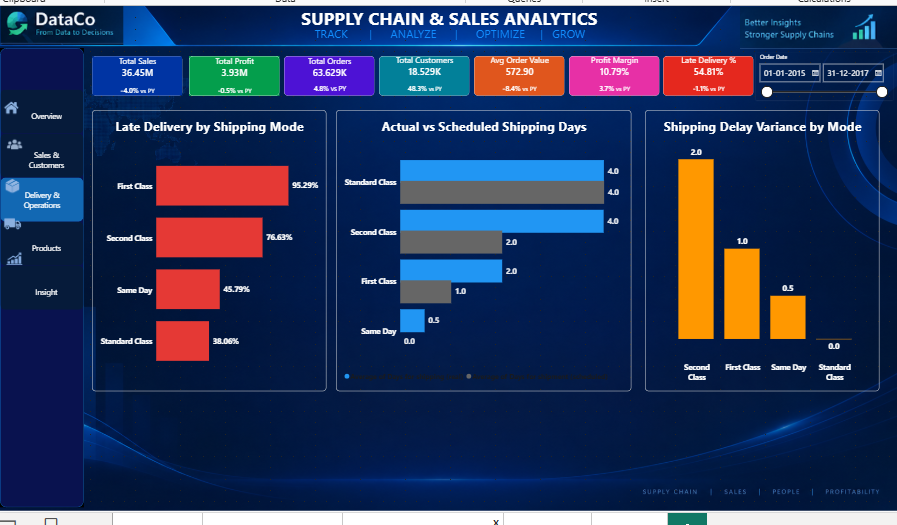

The dashboard page shown, as its layout file describes it:
{"tool":"powerbi","page":{"name":"Delivery & Operations","canvas":[1920,1080],"ordinal":2},"visuals":[{"type":"textbox","box":[488,0,940.8,83.2],"z":0},{"type":"group","id":"g1","title":"Group 10","box":[0,88.7,179.2,980],"z":0,"group":"g2"},{"type":"shape","box":[0,88.7,178.7,980],"z":500,"group":"g1"},{"type":"textbox","box":[535.5,42.7,849.1,40.5],"z":1000},{"type":"image","box":[6.4,275.2,50,40],"z":1000,"group":"g2"},{"type":"image","box":[0,0,264.5,83.2],"z":2000},{"type":"slicer","fields":{"Values":["DateTable.Date"]},"box":[1612.4,100,292,100],"z":2000},{"type":"image","box":[4.3,192,40,50],"z":2000,"group":"g2"},{"type":"image","box":[1578.7,0,341.3,93.9],"z":3000},{"type":"image","box":[6.4,358.4,40,50],"z":3000,"group":"g2"},{"type":"clusteredBarChart","title":"Late Delivery by Shipping Mode","fields":{"Category":["public dataco_raw.Shipping Mode"],"Y":["public dataco_raw.Late Delivery %"]},"box":[195.7,221.4,500,600],"z":4000},{"type":"image","box":[6.4,439.5,40,50],"z":4000,"group":"g2"},{"type":"clusteredBarChart","title":"Actual vs Scheduled Shipping Days","fields":{"Category":["public dataco_raw.Shipping Mode"],"Y":["Avg(public dataco_raw.Days for shipping (real))","Avg(public dataco_raw.Days for shipment (scheduled))"]},"box":[717.1,221.4,630,600],"z":5000},{"type":"image","box":[10.7,514.2,40,50],"z":5000,"group":"g2"},{"type":"clusteredColumnChart","title":"Shipping Delay Variance by Mode","fields":{"Category":["public dataco_raw.Shipping Mode"],"Y":["public dataco_raw.Shipping Delay Variance"]},"box":[1376,222,500,600],"z":6000},{"type":"group","id":"g2","title":"Group 11","box":[0,88.7,179.2,980],"z":8000},{"type":"pageNavigator","box":[0,176.9,179.2,475.7],"z":22000,"group":"g1"},{"type":"cardVisual","fields":{"Data":["Sum(public dataco_raw.Sales)"]},"box":[195.7,106.6,193,85],"z":31000},{"type":"cardVisual","fields":{"Data":["Sum(public dataco_raw.Order Profit Per Order)"]},"box":[402.4,106.6,193,85],"z":33000},{"type":"cardVisual","fields":{"Data":["Count(public dataco_raw.Order Id)"]},"box":[605.7,106.6,193,85],"z":35000},{"type":"cardVisual","fields":{"Data":["Count(public dataco_raw.Customer Id)"]},"box":[808.7,106.6,193,85],"z":37000},{"type":"cardVisual","fields":{"Data":["public dataco_raw.AOV"]},"box":[1010.7,106.6,193,85],"z":39000},{"type":"cardVisual","fields":{"Data":["public dataco_raw.Profit Margin"]},"box":[1214,106.6,193,85.7],"z":41000},{"type":"cardVisual","fields":{"Data":["public dataco_raw.Late Delivery %"]},"box":[1414,106.6,193,85.7],"z":44000}]}

Visuals, with their boxes on the page's 1920x1080 design canvas (x1, y1, x2, y2). These are canvas units, not pixel positions in the 897x525 screenshot, which may show the page scaled, cropped or inside an application window:
textbox: (x1=488, y1=0, x2=1429, y2=83)
"Group 10" group: (x1=0, y1=89, x2=179, y2=1069)
shape: (x1=0, y1=89, x2=179, y2=1069)
textbox: (x1=536, y1=43, x2=1385, y2=83)
image: (x1=6, y1=275, x2=56, y2=315)
image: (x1=0, y1=0, x2=264, y2=83)
slicer - DateTable.Date: (x1=1612, y1=100, x2=1904, y2=200)
image: (x1=4, y1=192, x2=44, y2=242)
image: (x1=1579, y1=0, x2=1920, y2=94)
image: (x1=6, y1=358, x2=46, y2=408)
"Late Delivery by Shipping Mode" clusteredBarChart: (x1=196, y1=221, x2=696, y2=821)
image: (x1=6, y1=440, x2=46, y2=490)
"Actual vs Scheduled Shipping Days" clusteredBarChart: (x1=717, y1=221, x2=1347, y2=821)
image: (x1=11, y1=514, x2=51, y2=564)
"Shipping Delay Variance by Mode" clusteredColumnChart: (x1=1376, y1=222, x2=1876, y2=822)
"Group 11" group: (x1=0, y1=89, x2=179, y2=1069)
pageNavigator: (x1=0, y1=177, x2=179, y2=653)
cardVisual - Sum(public dataco_raw.Sales): (x1=196, y1=107, x2=389, y2=192)
cardVisual - Sum(public dataco_raw.Order Profit Per Order): (x1=402, y1=107, x2=595, y2=192)
cardVisual - Count(public dataco_raw.Order Id): (x1=606, y1=107, x2=799, y2=192)
cardVisual - Count(public dataco_raw.Customer Id): (x1=809, y1=107, x2=1002, y2=192)
cardVisual - public dataco_raw.AOV: (x1=1011, y1=107, x2=1204, y2=192)
cardVisual - public dataco_raw.Profit Margin: (x1=1214, y1=107, x2=1407, y2=192)
cardVisual - public dataco_raw.Late Delivery %: (x1=1414, y1=107, x2=1607, y2=192)
